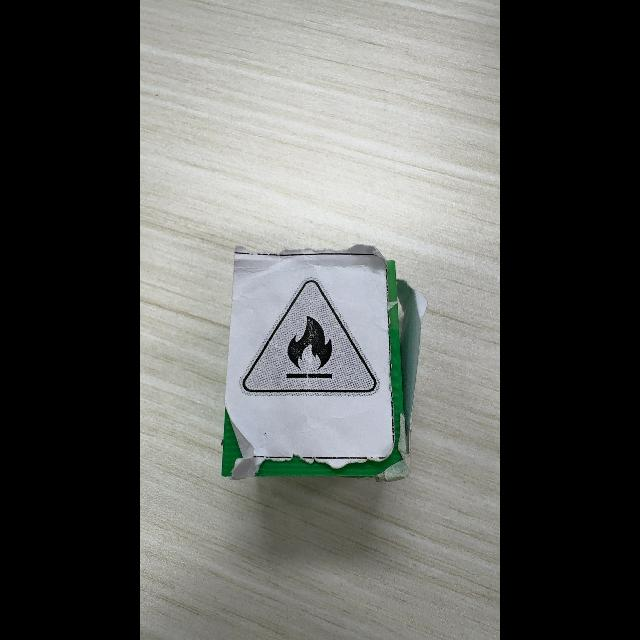Fire: (240, 278, 377, 396)
